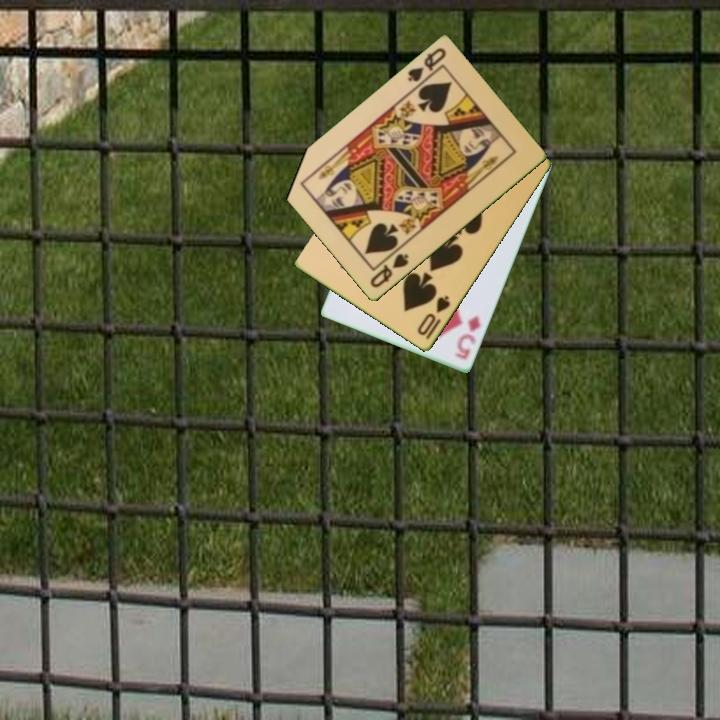10s: (413, 292, 453, 343)
5d: (451, 312, 483, 363)
Qs: (366, 250, 412, 291), (404, 45, 449, 85)
